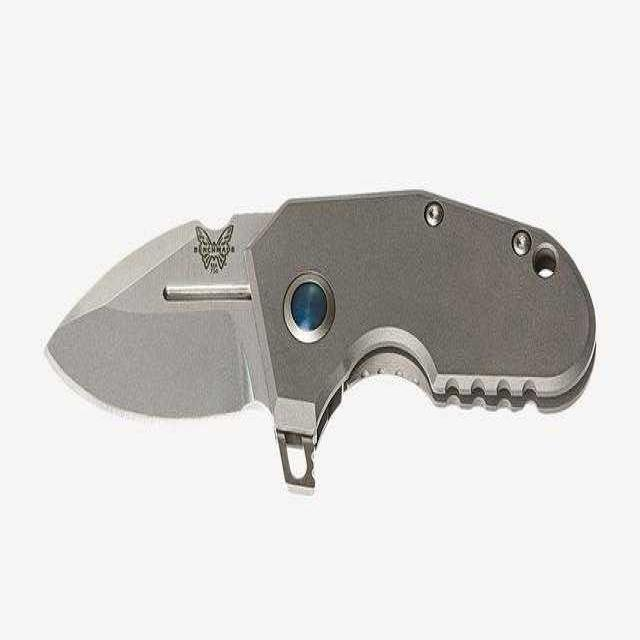Knife: (30, 183, 609, 484)
